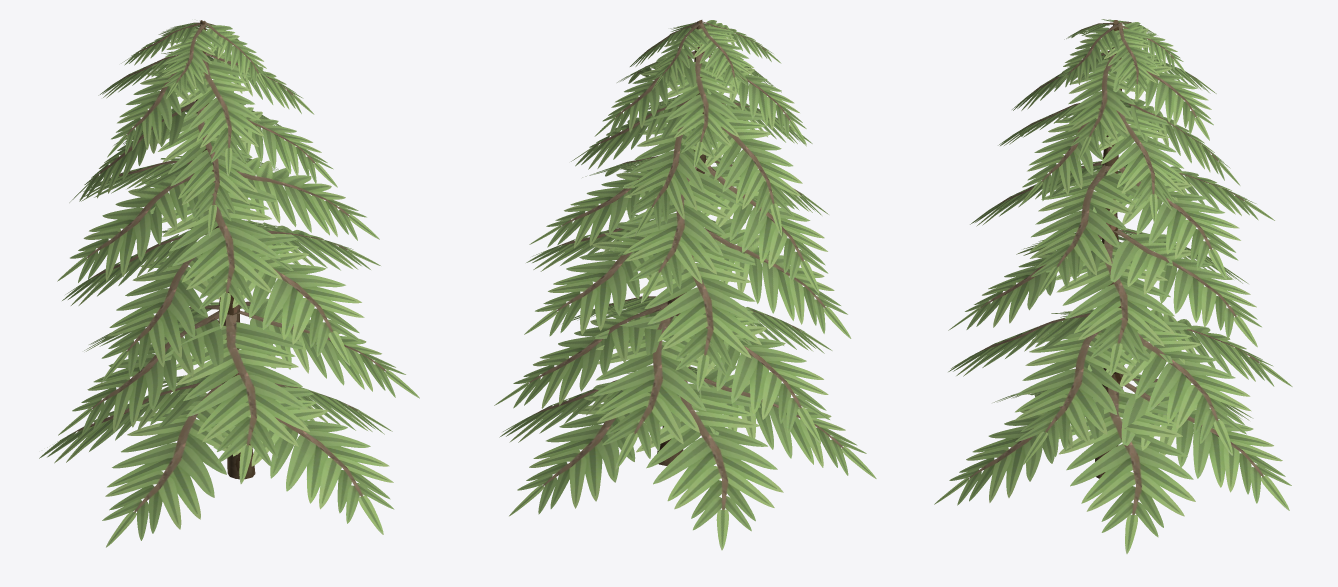
Rendered from pine_2.glb.
3 views of the same model, side by side, from view 1: azimuth 30°, elevation 25°; view 2: azimuth 150°, elevation 25°; view 3: azimuth 270°, elevation 25° (orthographic). The views are drawn at different scales.
Parts seen in each view (by area): view 1: Pine_2; view 2: Pine_2; view 3: Pine_2.
Boxes of the visible parts, <box> form: Pine_2: <box>39,20,419,547</box>; Pine_2: <box>494,20,876,550</box>; Pine_2: <box>934,19,1292,553</box>.
Size of the model in its own units: 6.61 by 8.34 by 6.78.
Materials: 2 (2 with a texture image).
